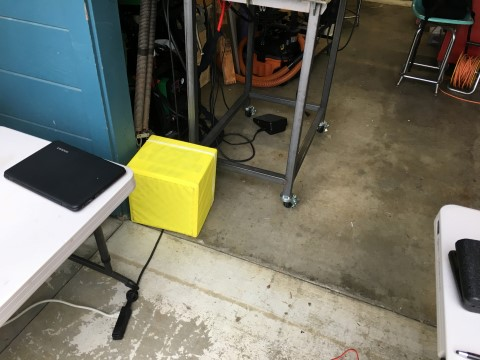cube: (125, 133, 218, 239)
